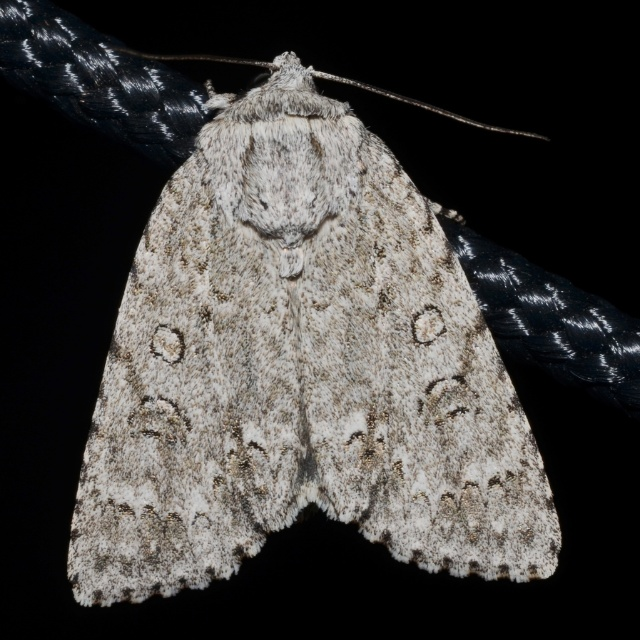Moths and butterflies: (62, 42, 569, 612)
